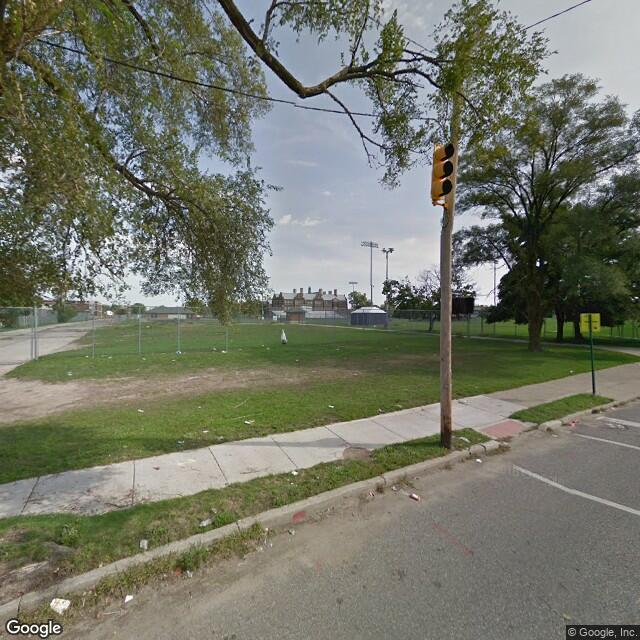litter: (47, 594, 69, 617), (284, 466, 305, 480), (262, 524, 271, 554), (197, 512, 212, 526), (405, 489, 420, 503), (240, 417, 260, 427), (140, 533, 149, 554), (174, 569, 200, 576), (122, 590, 137, 602), (171, 346, 185, 355), (286, 526, 297, 537), (570, 417, 582, 427), (474, 456, 487, 465), (459, 435, 472, 444), (213, 346, 229, 352), (365, 489, 375, 498), (200, 425, 209, 435), (136, 407, 147, 413), (376, 408, 383, 416), (175, 439, 184, 445), (82, 352, 89, 359), (256, 343, 263, 350), (290, 358, 302, 362), (197, 402, 202, 411), (68, 371, 74, 378), (106, 354, 113, 360), (327, 403, 335, 408), (123, 445, 132, 449), (570, 369, 576, 374), (335, 347, 340, 353)
